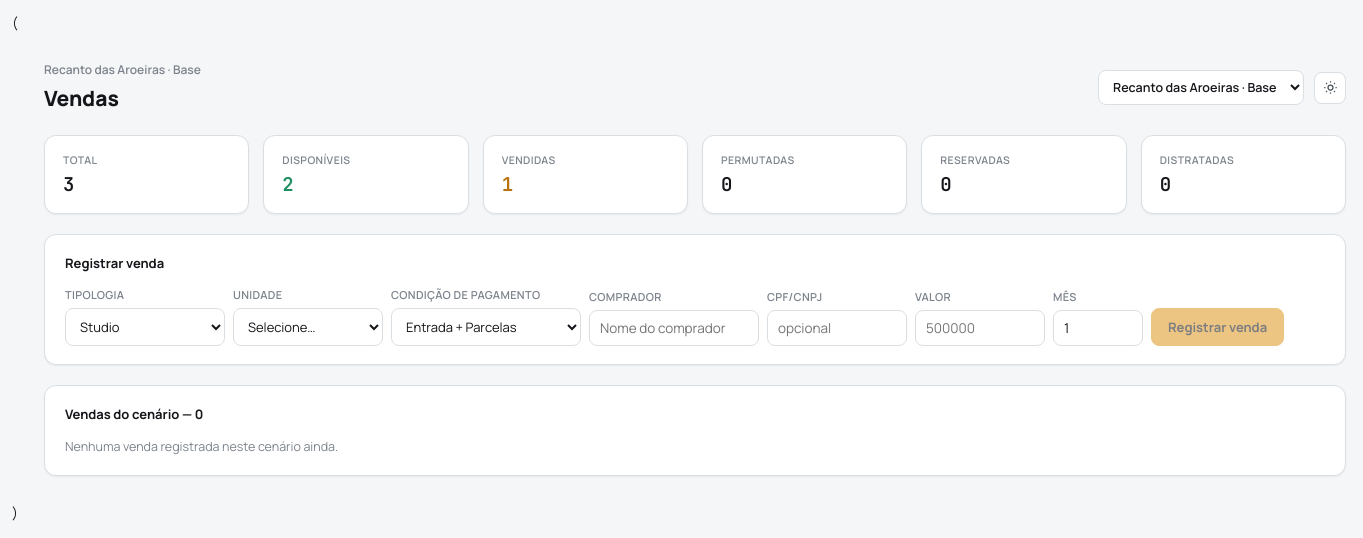
Test: VendasPage › trocar de cenário resincroniza o formulário de registrar venda, mesmo com uma única tipologia nova
The image size is (1363, 538).
Check: the button "Registrar venda" is shown, box x1=1151 y1=308 x2=1284 y2=346
Select "Torres Alto Padrão · Base" in the 1st dropdown at [1201, 88], box x1=1098 y1=70 x2=1304 y2=105
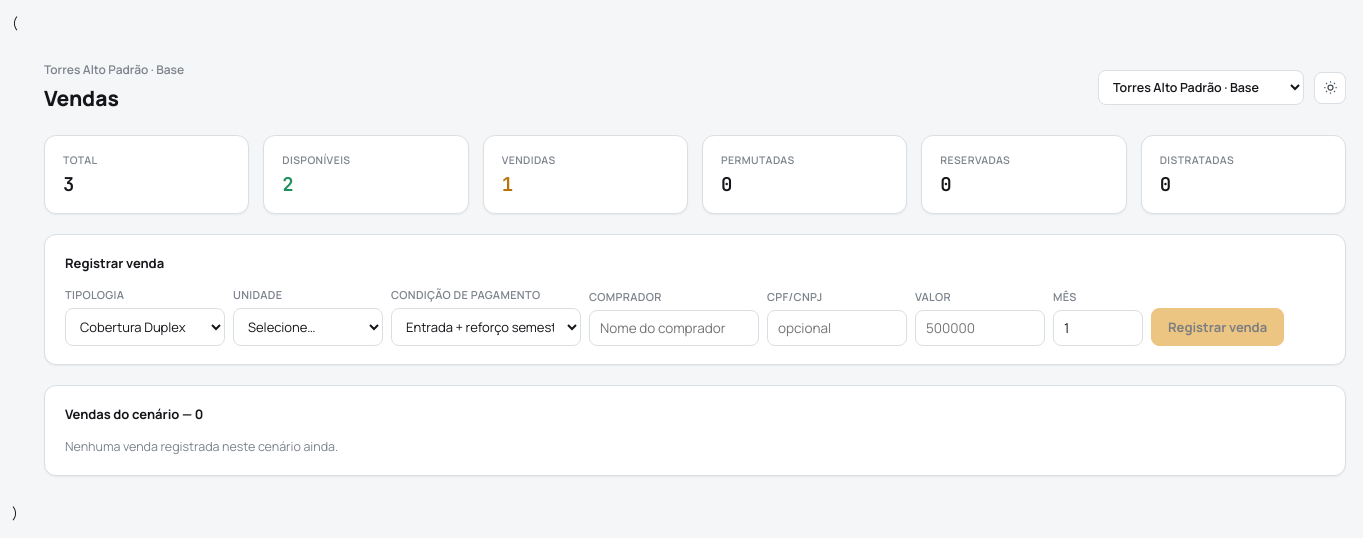
Check: the text "Studio" is not shown
Select "CB-3" in the dropdown labelled "Unidade" at [308, 327], box x1=233 y1=308 x2=383 y2=346
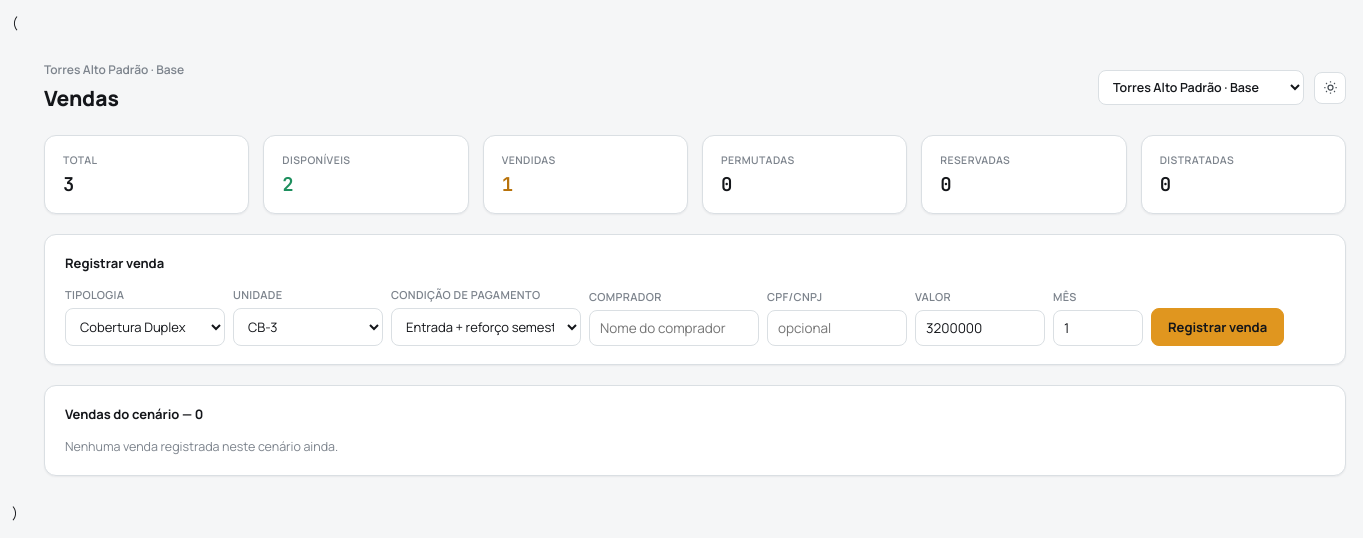
Check: the button "Registrar venda" is enabled, box x1=1151 y1=308 x2=1284 y2=346
